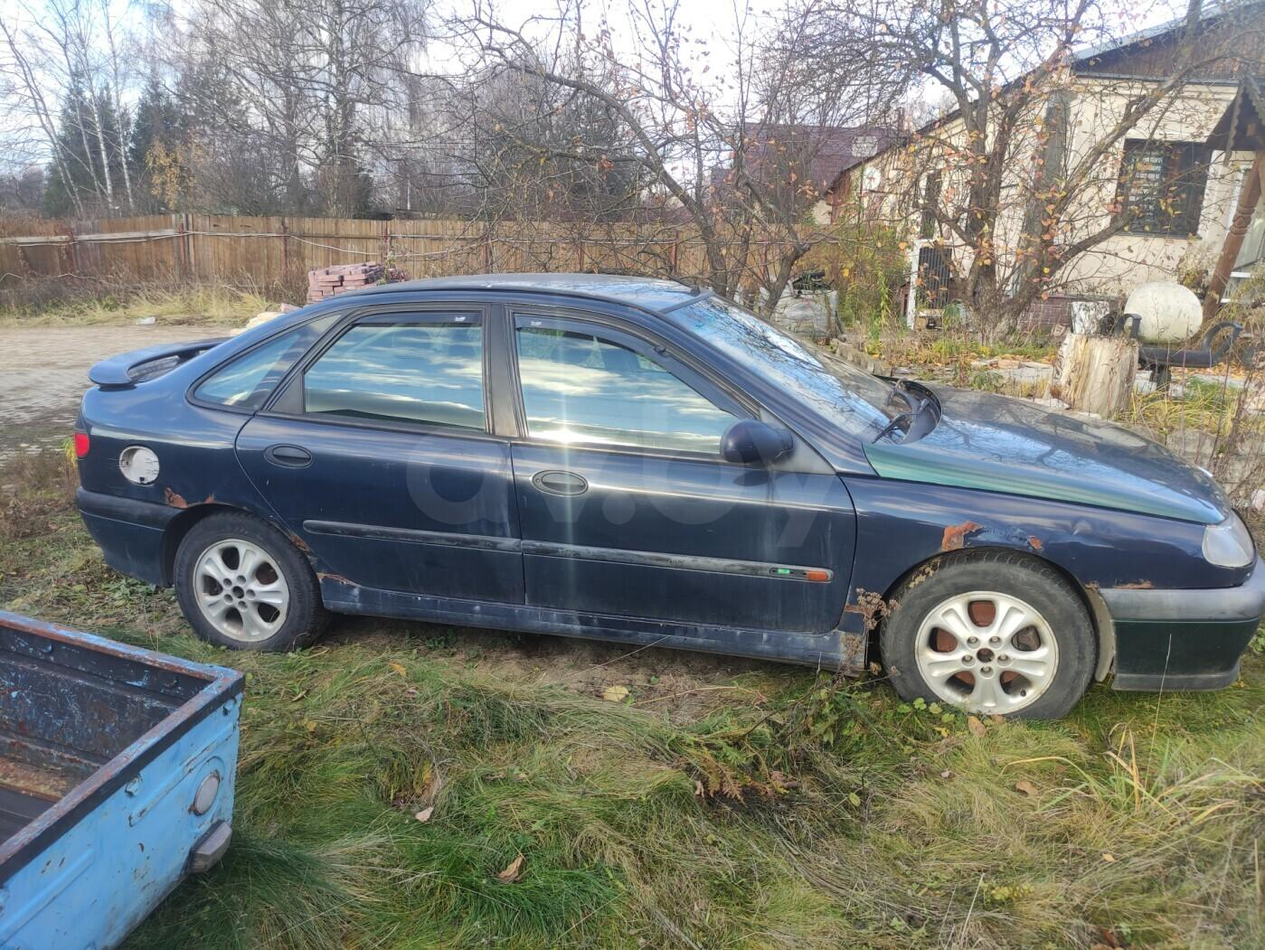Lahuna_1993-1999: (71, 266, 1262, 723)
